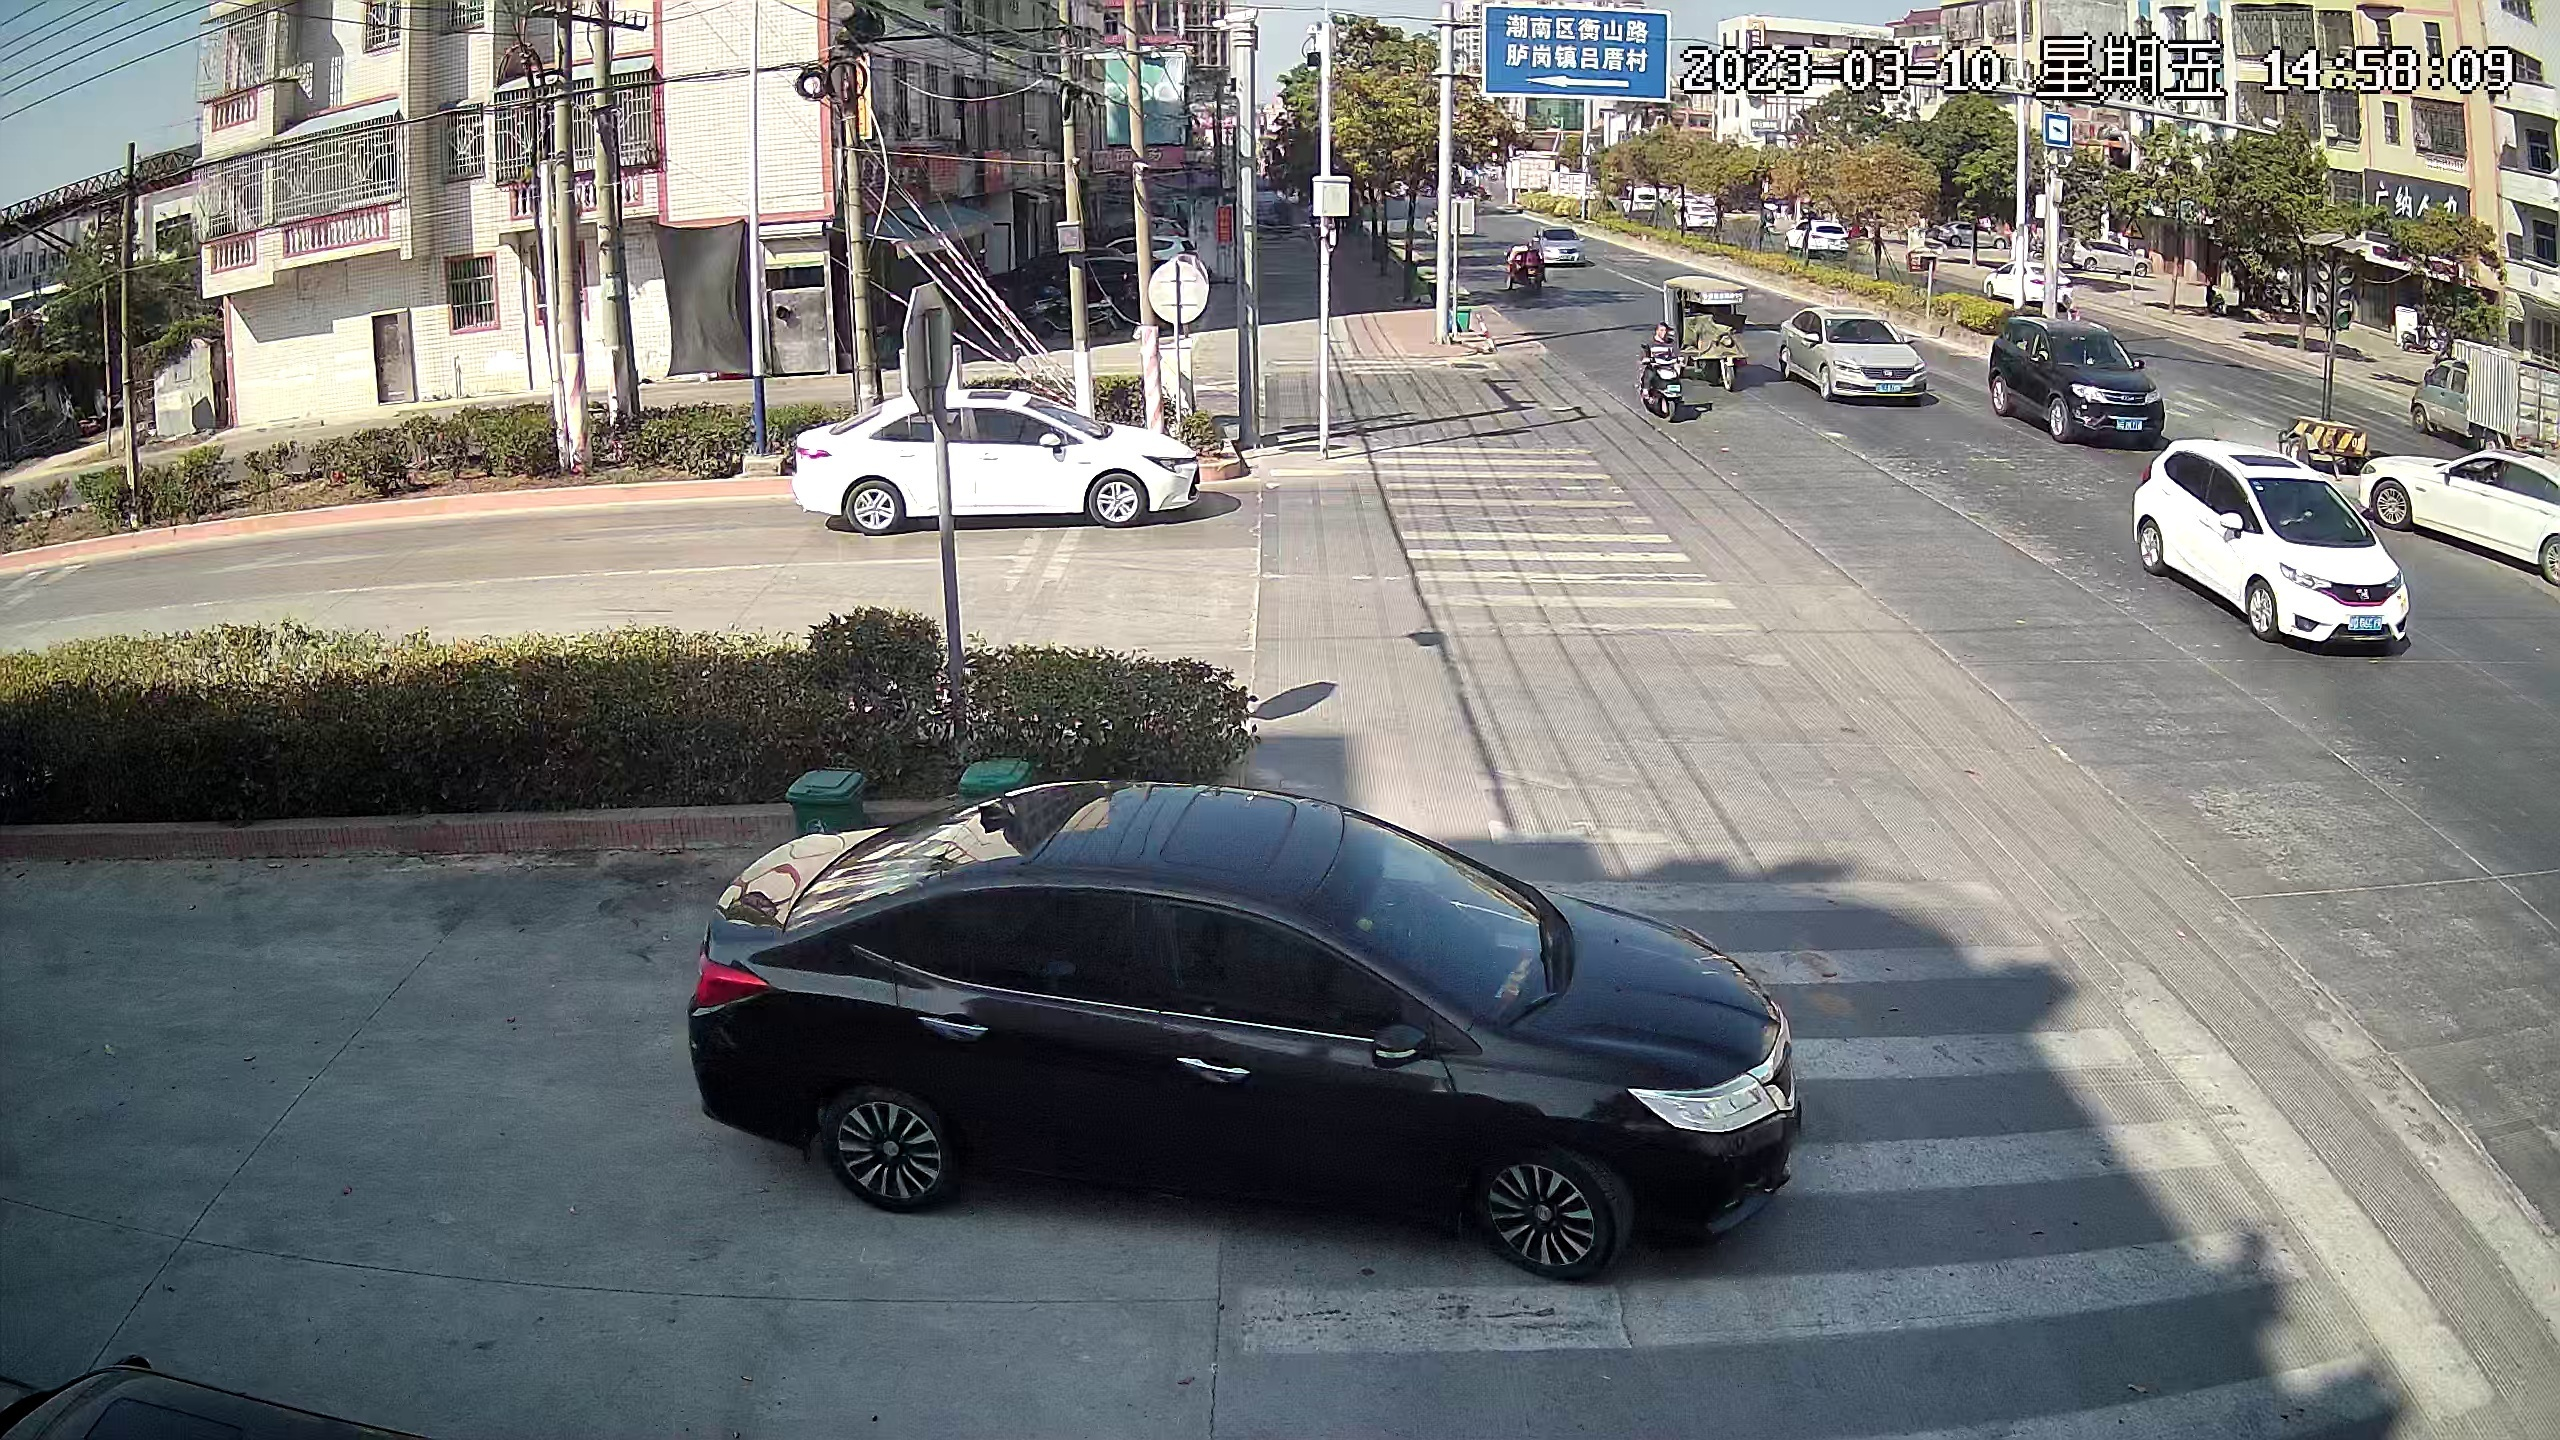motorcycle: (1632, 324, 1683, 422), (1023, 288, 1108, 343)
sedan: (686, 777, 1807, 1275), (2140, 433, 2404, 659), (788, 390, 1204, 533), (2375, 434, 2560, 584), (1774, 297, 1932, 411), (1030, 244, 1162, 290), (1985, 258, 2068, 304), (2069, 234, 2145, 283), (1788, 213, 1844, 262), (1538, 218, 1584, 273), (1936, 218, 1999, 255), (1670, 195, 1711, 234)
suv: (2004, 313, 2149, 452)
tricycle: (1674, 274, 1744, 401), (1509, 243, 1547, 301)
truck: (2412, 345, 2555, 447)
